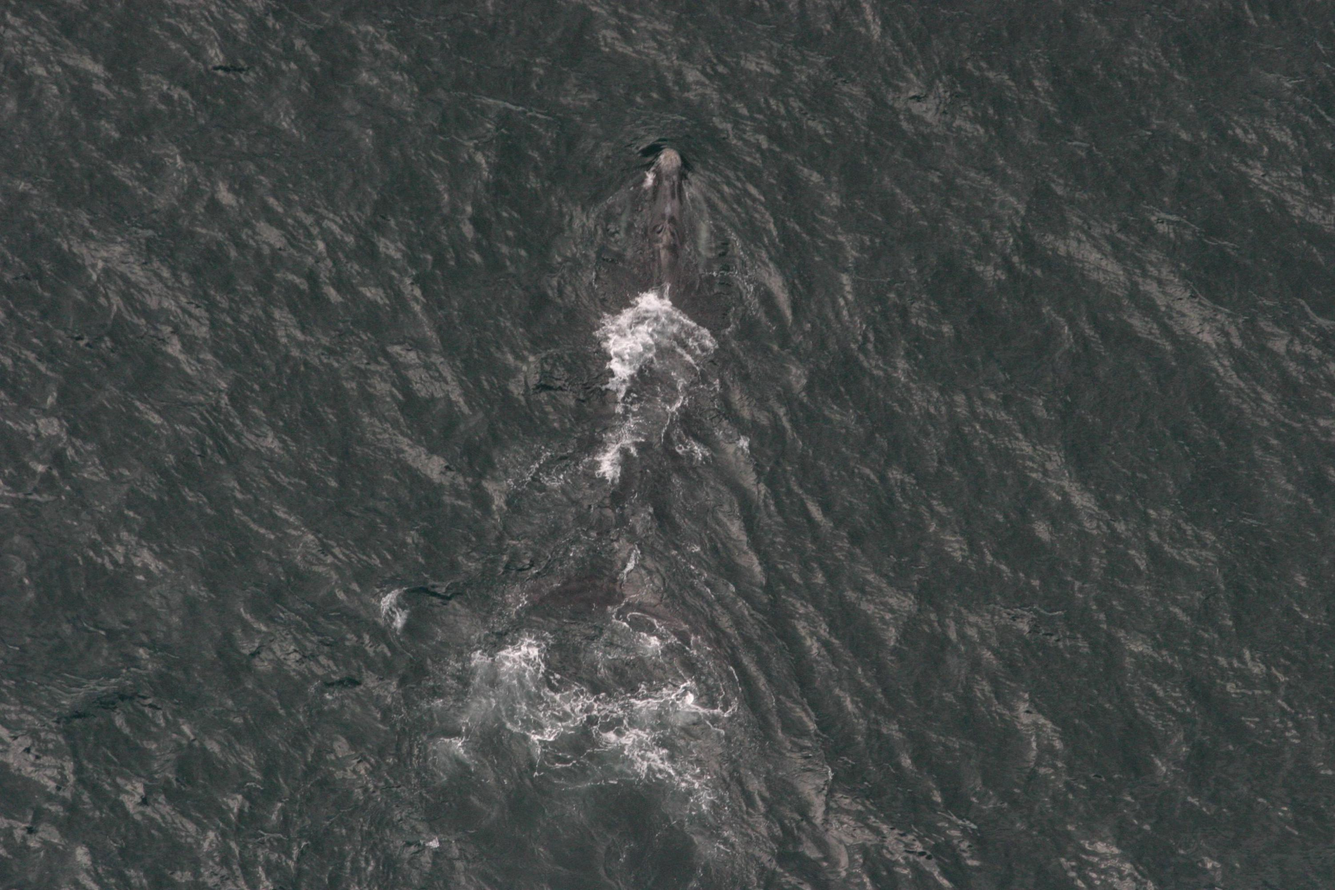whale: (530, 135, 744, 679)
